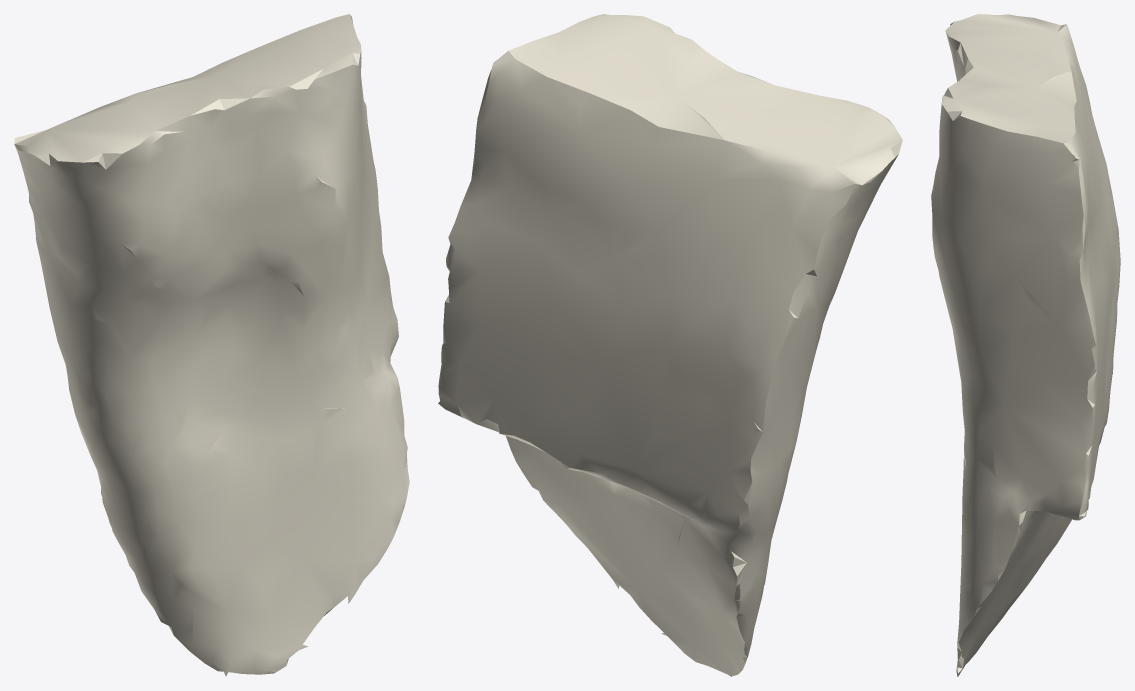
The model's file is fma23632_mm1902m.glb.
The picture shows the model from 3 angles, left to right: view 1: azimuth 30°, elevation 25°; view 2: azimuth 150°, elevation 25°; view 3: azimuth 270°, elevation 25°; orthographic projection. The views are drawn at different scales.
Parts seen in each view (by area): view 1: FMA23632_MM1902M; view 2: FMA23632_MM1902M; view 3: FMA23632_MM1902M.
Boxes of the visible parts, left/top/right/bottom form: FMA23632_MM1902M: left=14, top=14, right=409, bottom=676; FMA23632_MM1902M: left=438, top=14, right=902, bottom=676; FMA23632_MM1902M: left=931, top=14, right=1120, bottom=676.
Size of the model in its own units: 0.0167 by 0.024 by 0.00682.
